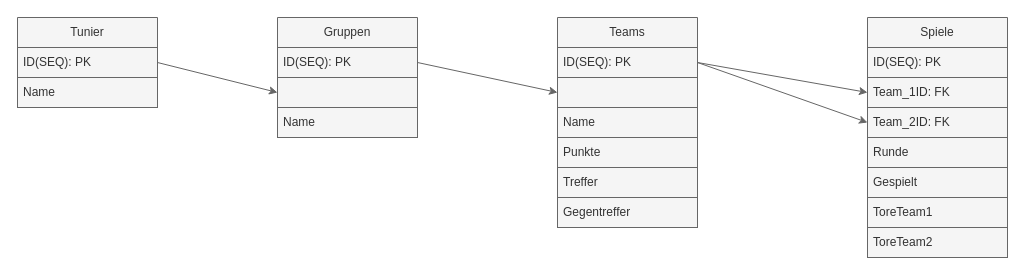
Image size: 1025x275. Some labels were removed from this diagram. The shapes that lost their labels are listed below. From the top down, each one's centre as x and y in pixels, then its label:
At point 347,92: "TunierID: PK/FK".
At point 627,92: "GruppenID:FK".
